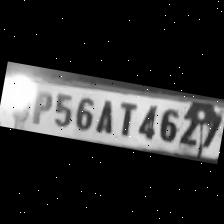2: (177, 106, 205, 146)
4: (132, 100, 160, 138)
5: (47, 88, 74, 128)
6: (154, 102, 182, 141), (70, 91, 97, 131)
A: (92, 94, 118, 135)
P: (26, 85, 54, 126)
T: (111, 96, 138, 136)
U: (6, 81, 33, 123)
